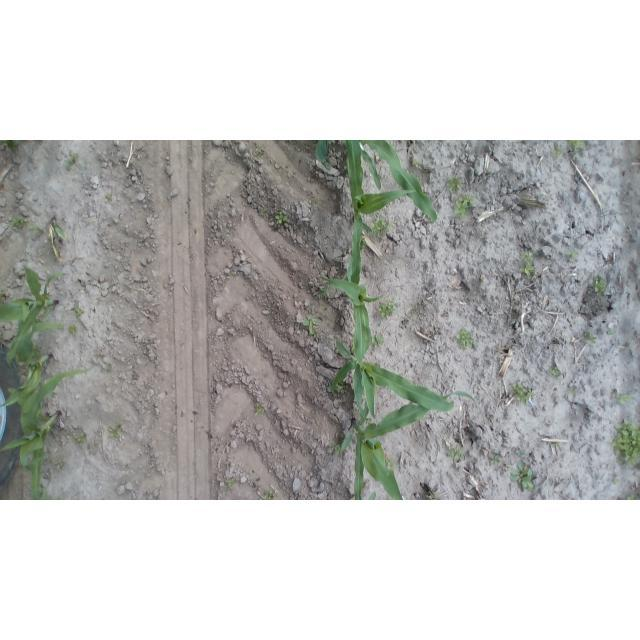Maize: (341, 391, 476, 500), (342, 141, 417, 288), (330, 340, 455, 428), (1, 371, 84, 500), (320, 254, 383, 423), (1, 265, 68, 371), (359, 141, 437, 222), (1, 353, 52, 410), (314, 141, 334, 169), (50, 217, 67, 240), (41, 490, 48, 499)
Weeds: (611, 418, 640, 466), (510, 459, 534, 489), (456, 195, 477, 218), (456, 327, 477, 350), (509, 383, 533, 403), (370, 217, 393, 237), (381, 298, 400, 319), (520, 252, 536, 275), (302, 319, 322, 336), (594, 276, 609, 296), (448, 443, 464, 461), (448, 174, 463, 192), (110, 423, 123, 439), (616, 392, 633, 404), (65, 152, 79, 166), (568, 141, 585, 152), (11, 218, 25, 231), (585, 332, 598, 345), (275, 211, 287, 225), (372, 333, 384, 347), (255, 403, 266, 417), (73, 302, 83, 316), (548, 366, 560, 377), (491, 454, 502, 466), (226, 477, 237, 488), (340, 382, 349, 395), (553, 147, 563, 158), (517, 447, 527, 457), (264, 491, 276, 499), (75, 433, 86, 441), (320, 287, 328, 298), (568, 248, 578, 256), (256, 147, 266, 155), (388, 460, 396, 469), (333, 443, 341, 452), (104, 194, 112, 202), (613, 476, 620, 484), (55, 461, 63, 468), (71, 326, 78, 334), (361, 239, 367, 248), (627, 494, 635, 500), (607, 328, 613, 334), (569, 387, 576, 392), (58, 324, 63, 330), (107, 364, 111, 371), (262, 210, 265, 214)
